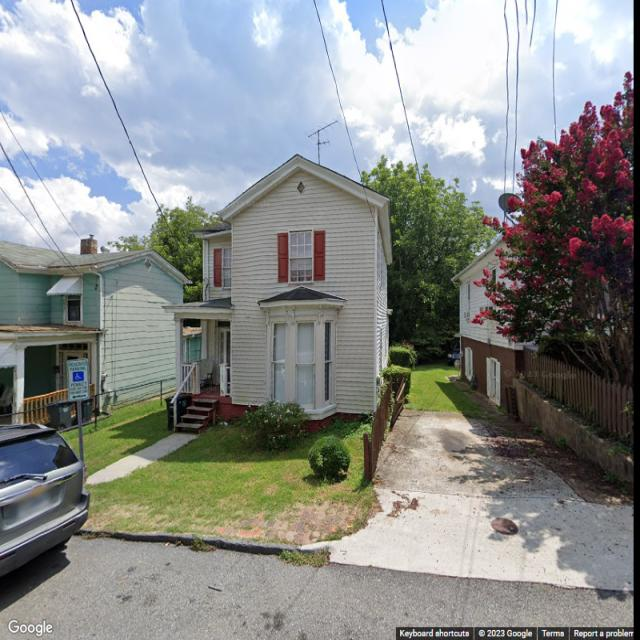House: (171, 154, 393, 434), (0, 239, 192, 433), (449, 222, 631, 410)
